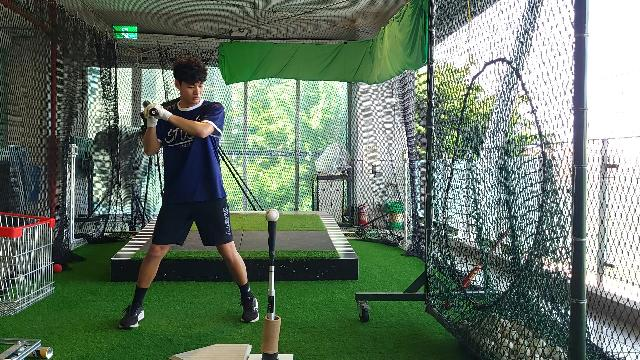bat: (142, 100, 150, 108)
